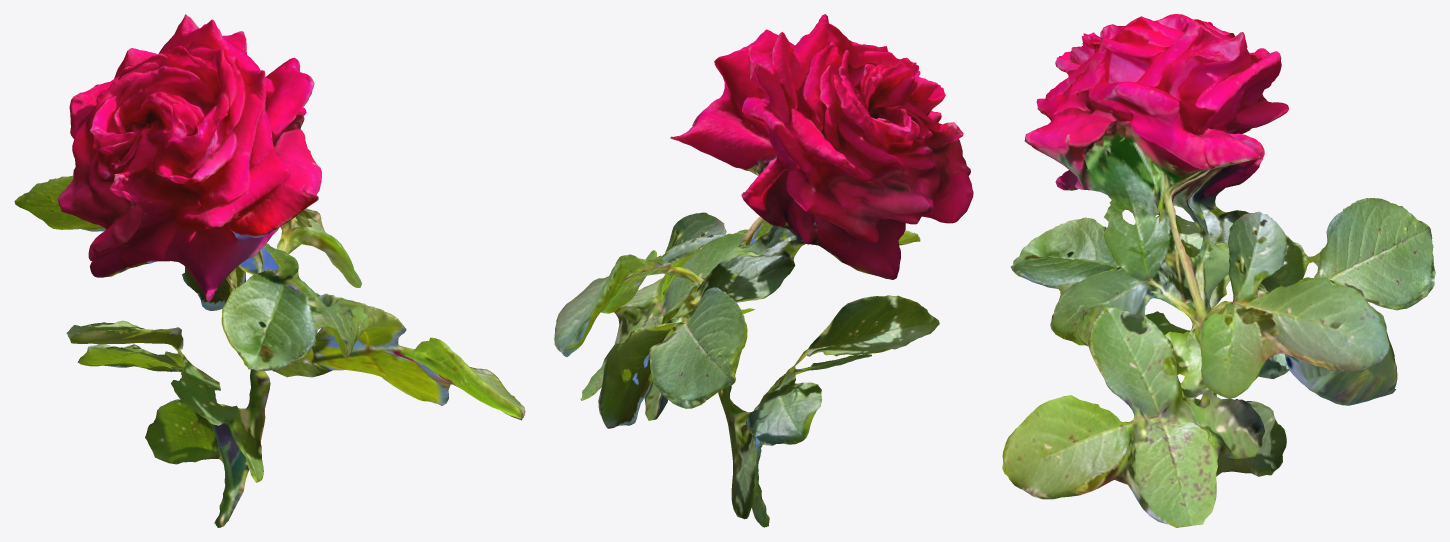
Rendered from rose2.glb.
3 views of the same model, side by side, from view 1: azimuth 30°, elevation 25°; view 2: azimuth 150°, elevation 25°; view 3: azimuth 270°, elevation 25° (orthographic). The views are drawn at different scales.
Visible parts, largest first — view 1: Object_4; view 2: Object_4; view 3: Object_4.
Part boxes in pixels (<box>): Object_4: <box>14,14,525,527</box>; Object_4: <box>554,14,973,527</box>; Object_4: <box>1002,14,1435,527</box>.
Size of the model in its own units: 0.1347 by 0.1682 by 0.1351.
1 material, 1 textured.
